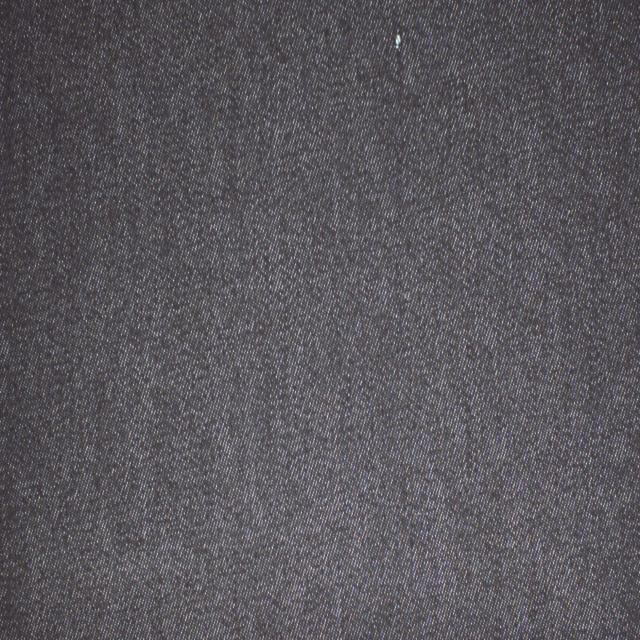Knot: (395, 29, 403, 48)
